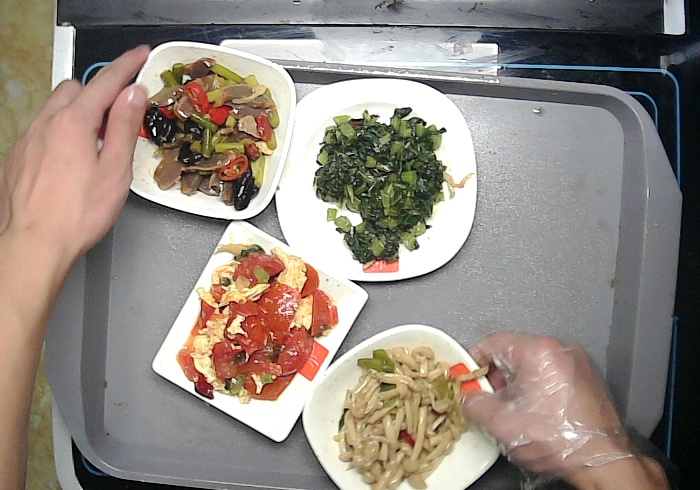SHKJ-Bai_Se_Cai_Die: (121, 41, 298, 220)
SHKJ-Bai_Se_Si_Fang_Cai_Die: (273, 79, 478, 283)
SHKJ-Bai_Se_Xiao_Fang_Die: (302, 324, 503, 490)
SHKJ-Si_Fang_Min: (151, 218, 367, 443)
